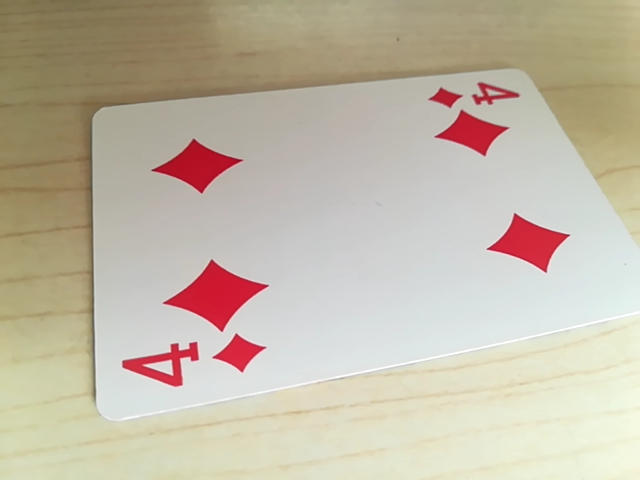fk 4: (118, 329, 271, 402), (429, 77, 522, 114)
